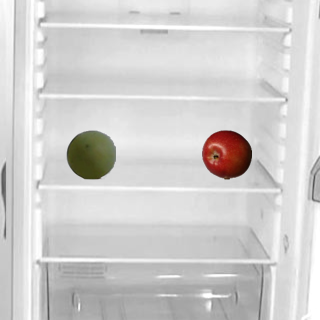Apple Braeburn: (201, 129, 251, 179)
Grape White 4: (65, 129, 115, 179)
